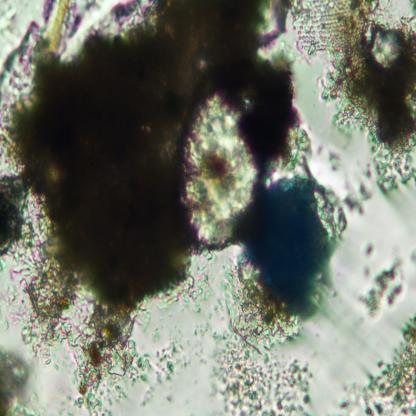Background material: (13, 1, 292, 307), (290, 0, 416, 189), (205, 268, 312, 415), (67, 310, 189, 412), (0, 0, 94, 122), (0, 238, 81, 360), (340, 310, 416, 414), (360, 242, 402, 320), (0, 168, 36, 254), (0, 349, 43, 415), (346, 180, 372, 214)
Fragment: (244, 175, 332, 318)
